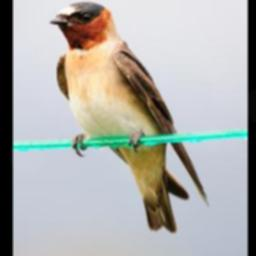Swallow: (49, 0, 210, 234)
